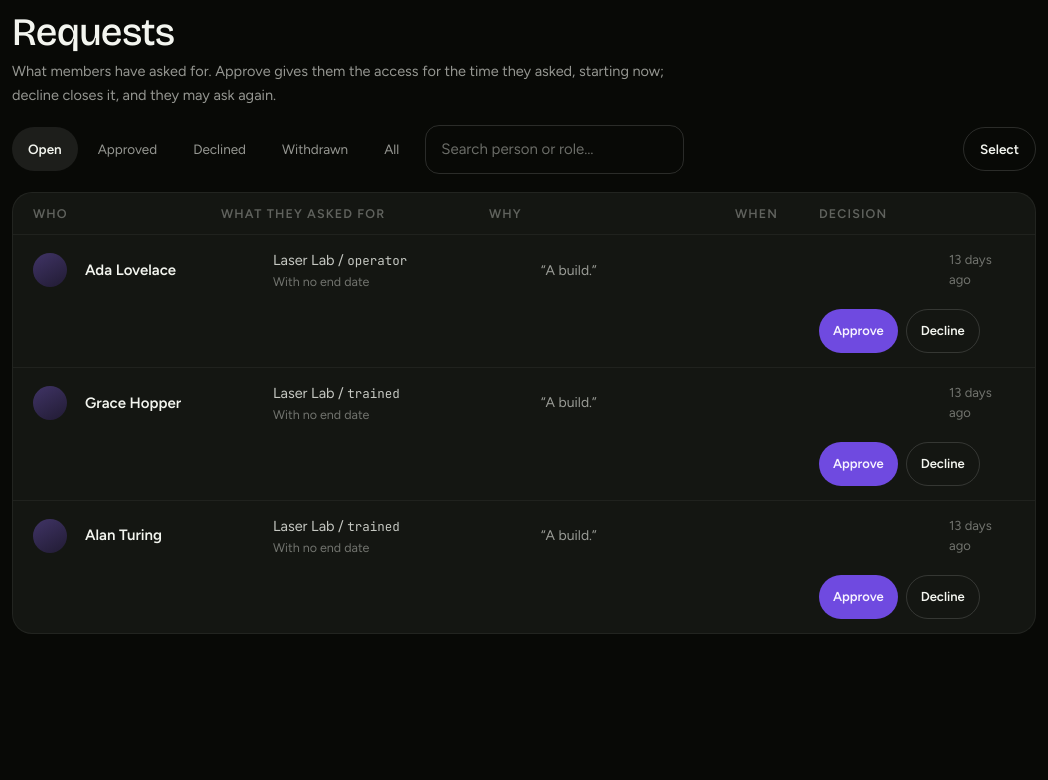
Test case: the queue's search › keeps a bulk decision to the rows the search shows
Type "bandsaw" into the field named "Search requests" at (555, 149), box [425, 125, 684, 174]
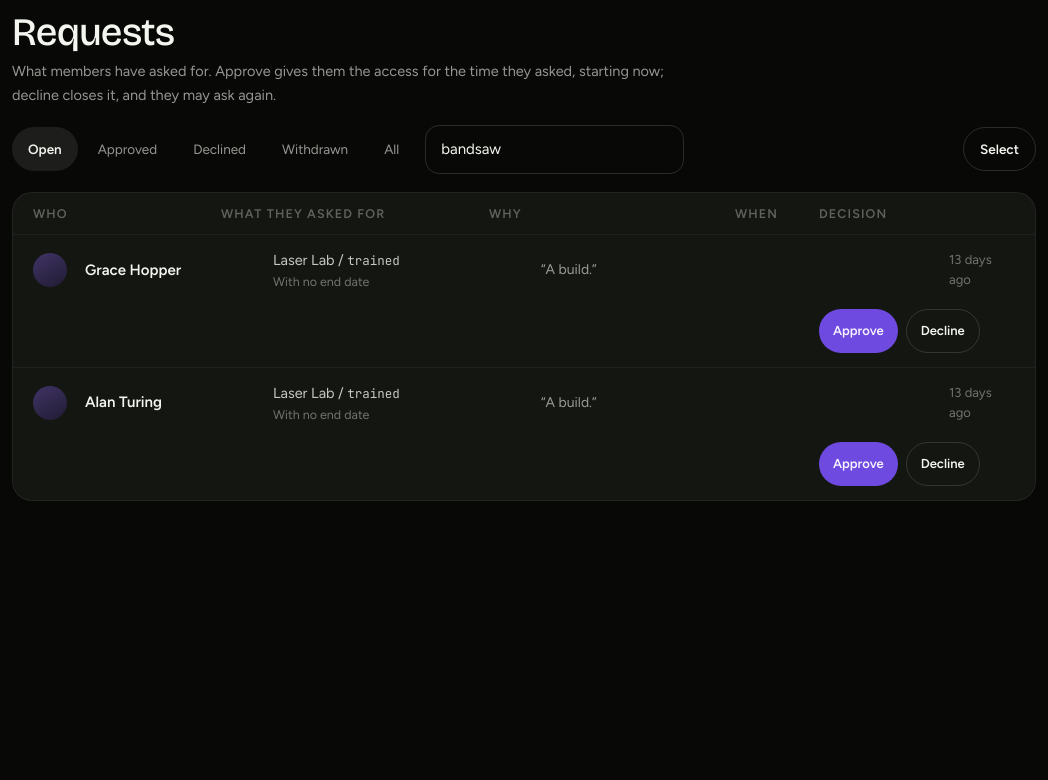
Click the button "Select" at (1000, 149), box [963, 127, 1036, 171]
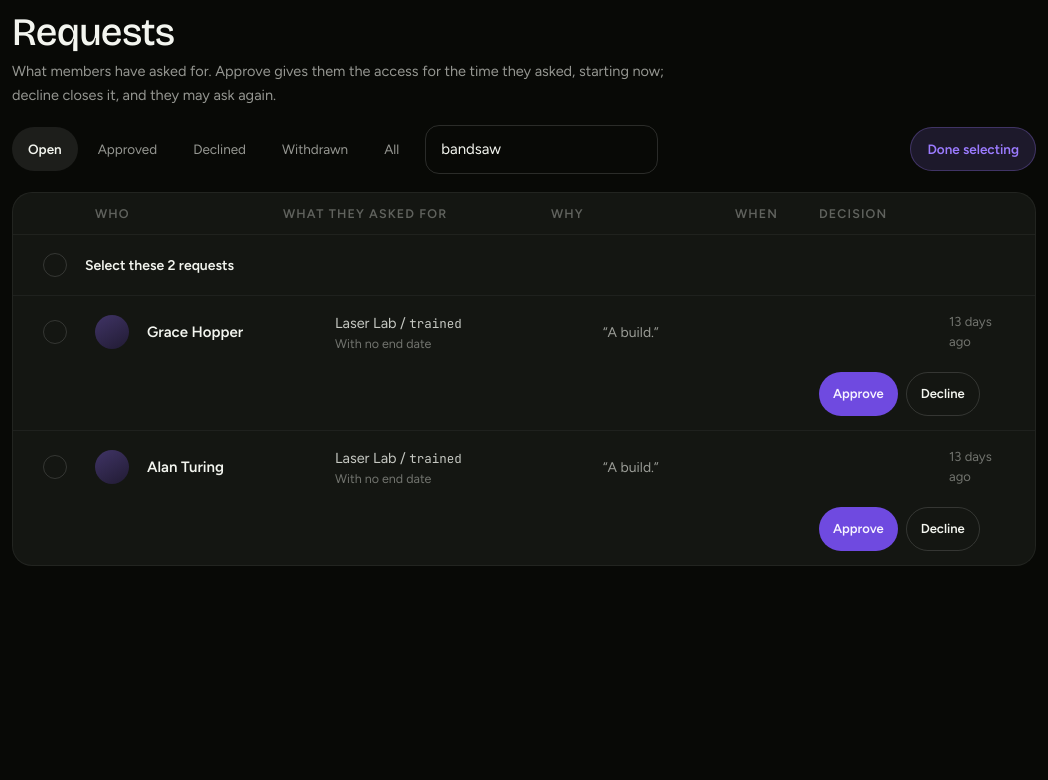
Click the 1st checkbox labelled "Select these 2 requests" at (160, 265), box [13, 234, 1035, 295]
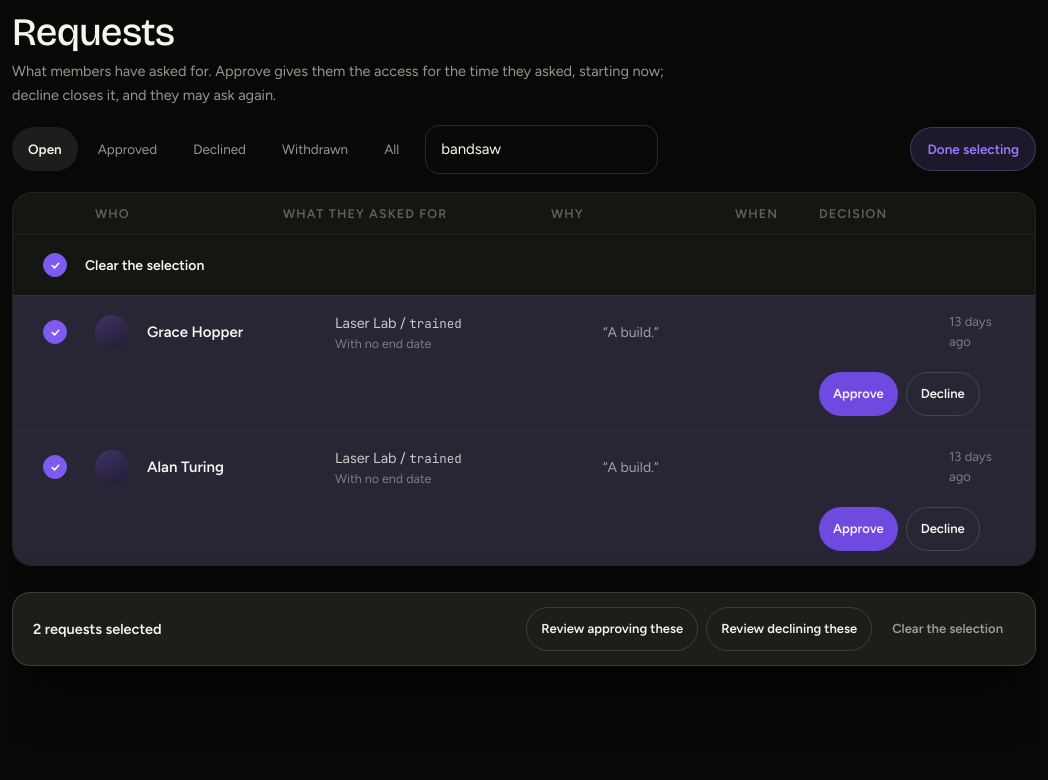
expect the text "2 requests selected" is shown: met, box [33, 620, 162, 638]
